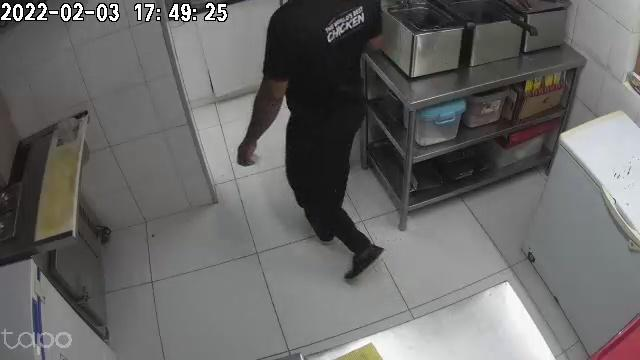no_gloves: (236, 128, 265, 167)
